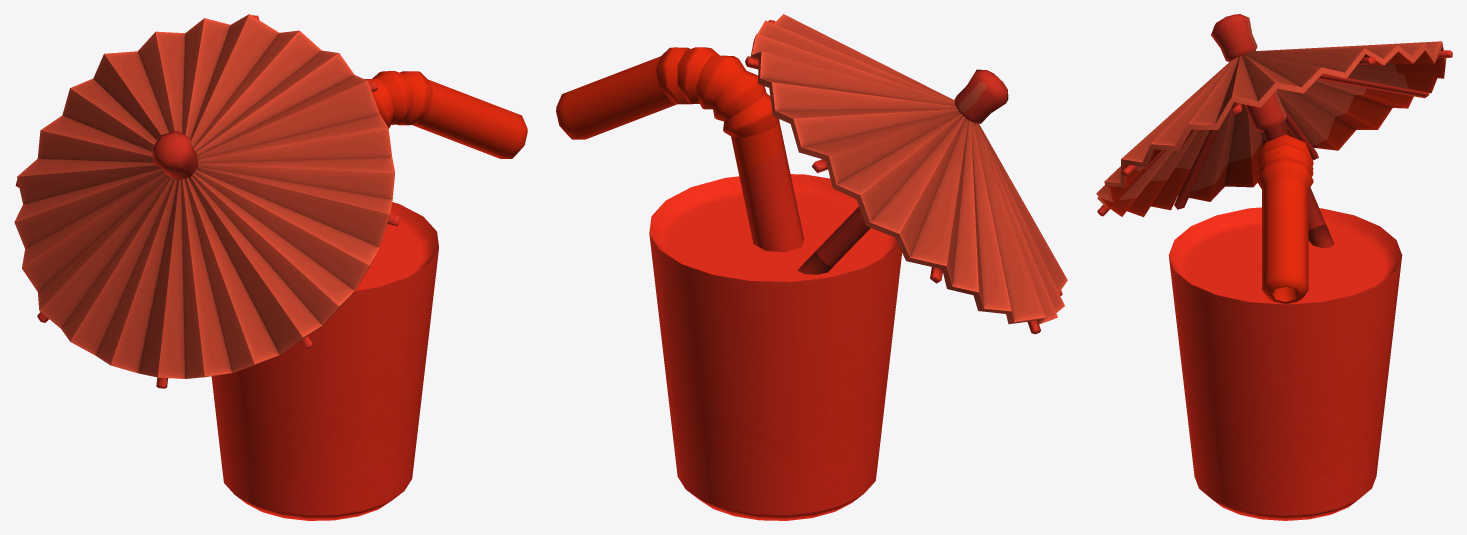
The model's file is Web_Smoothie_Mix_Coral.obj.
The picture shows the model from 3 angles, left to right: view 1: azimuth 30°, elevation 25°; view 2: azimuth 150°, elevation 25°; view 3: azimuth 270°, elevation 25°; orthographic projection. The views are drawn at different scales.
Parts seen in each view (by area): view 1: m_recipe_megaSmoothie_01(Clone)_0; view 2: m_recipe_megaSmoothie_01(Clone)_0; view 3: m_recipe_megaSmoothie_01(Clone)_0.
Part boxes in pixels (left/top/right/bottom): m_recipe_megaSmoothie_01(Clone)_0: left=14, top=14, right=527, bottom=520; m_recipe_megaSmoothie_01(Clone)_0: left=556, top=14, right=1067, bottom=520; m_recipe_megaSmoothie_01(Clone)_0: left=1096, top=14, right=1452, bottom=520.
Size of the model in its own units: 1.11 by 1.01 by 0.7635.
1 material, 1 textured.
